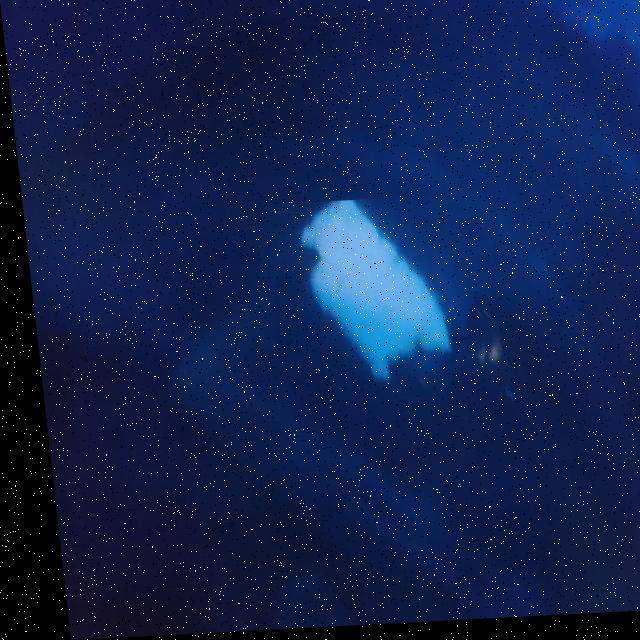litter: (259, 199, 490, 413)
